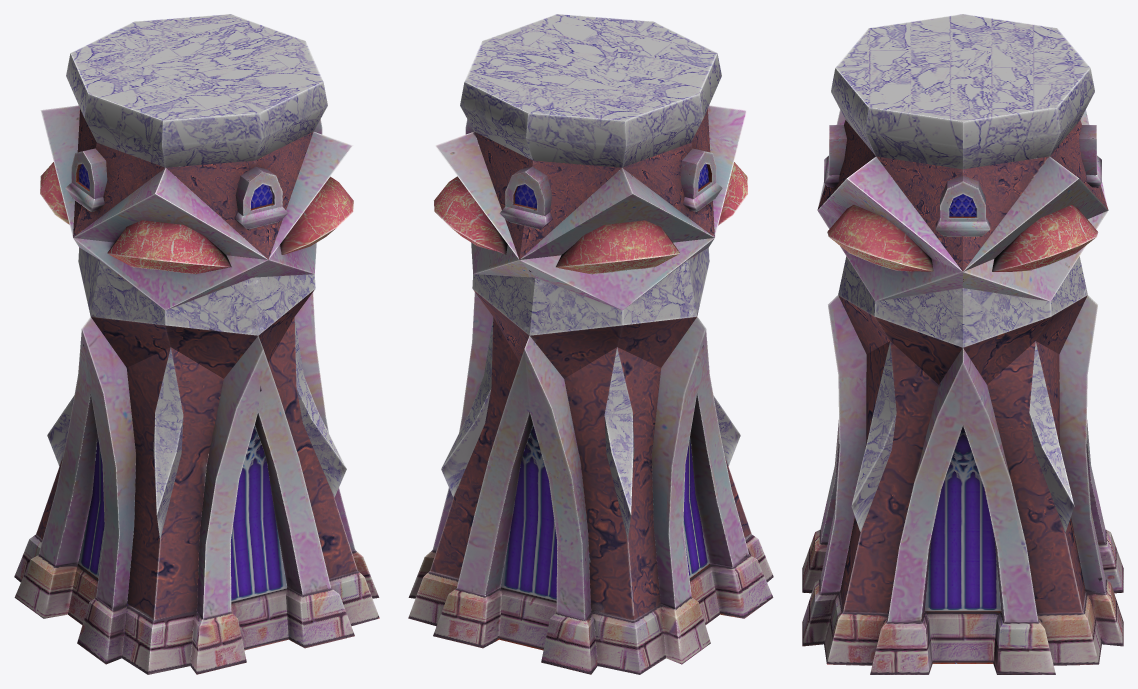
File: MagicBaseLod1.fbx
3 views of the same model, side by side, from view 1: azimuth 30°, elevation 25°; view 2: azimuth 150°, elevation 25°; view 3: azimuth 270°, elevation 25° (orthographic).
Visible parts, largest first — view 1: MagicBaseLod1; view 2: MagicBaseLod1; view 3: MagicBaseLod1.
Boxes of the visible parts, x1,y1,x2,y2 form: MagicBaseLod1: [14, 14, 379, 674]; MagicBaseLod1: [408, 14, 773, 674]; MagicBaseLod1: [802, 14, 1123, 674].
Size of the model in its own units: 3.93 by 7.29 by 3.93.
Materials: 1 (1 with a texture image).
